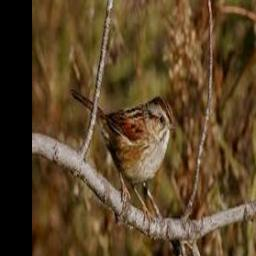Sparrow: (72, 90, 176, 234)
